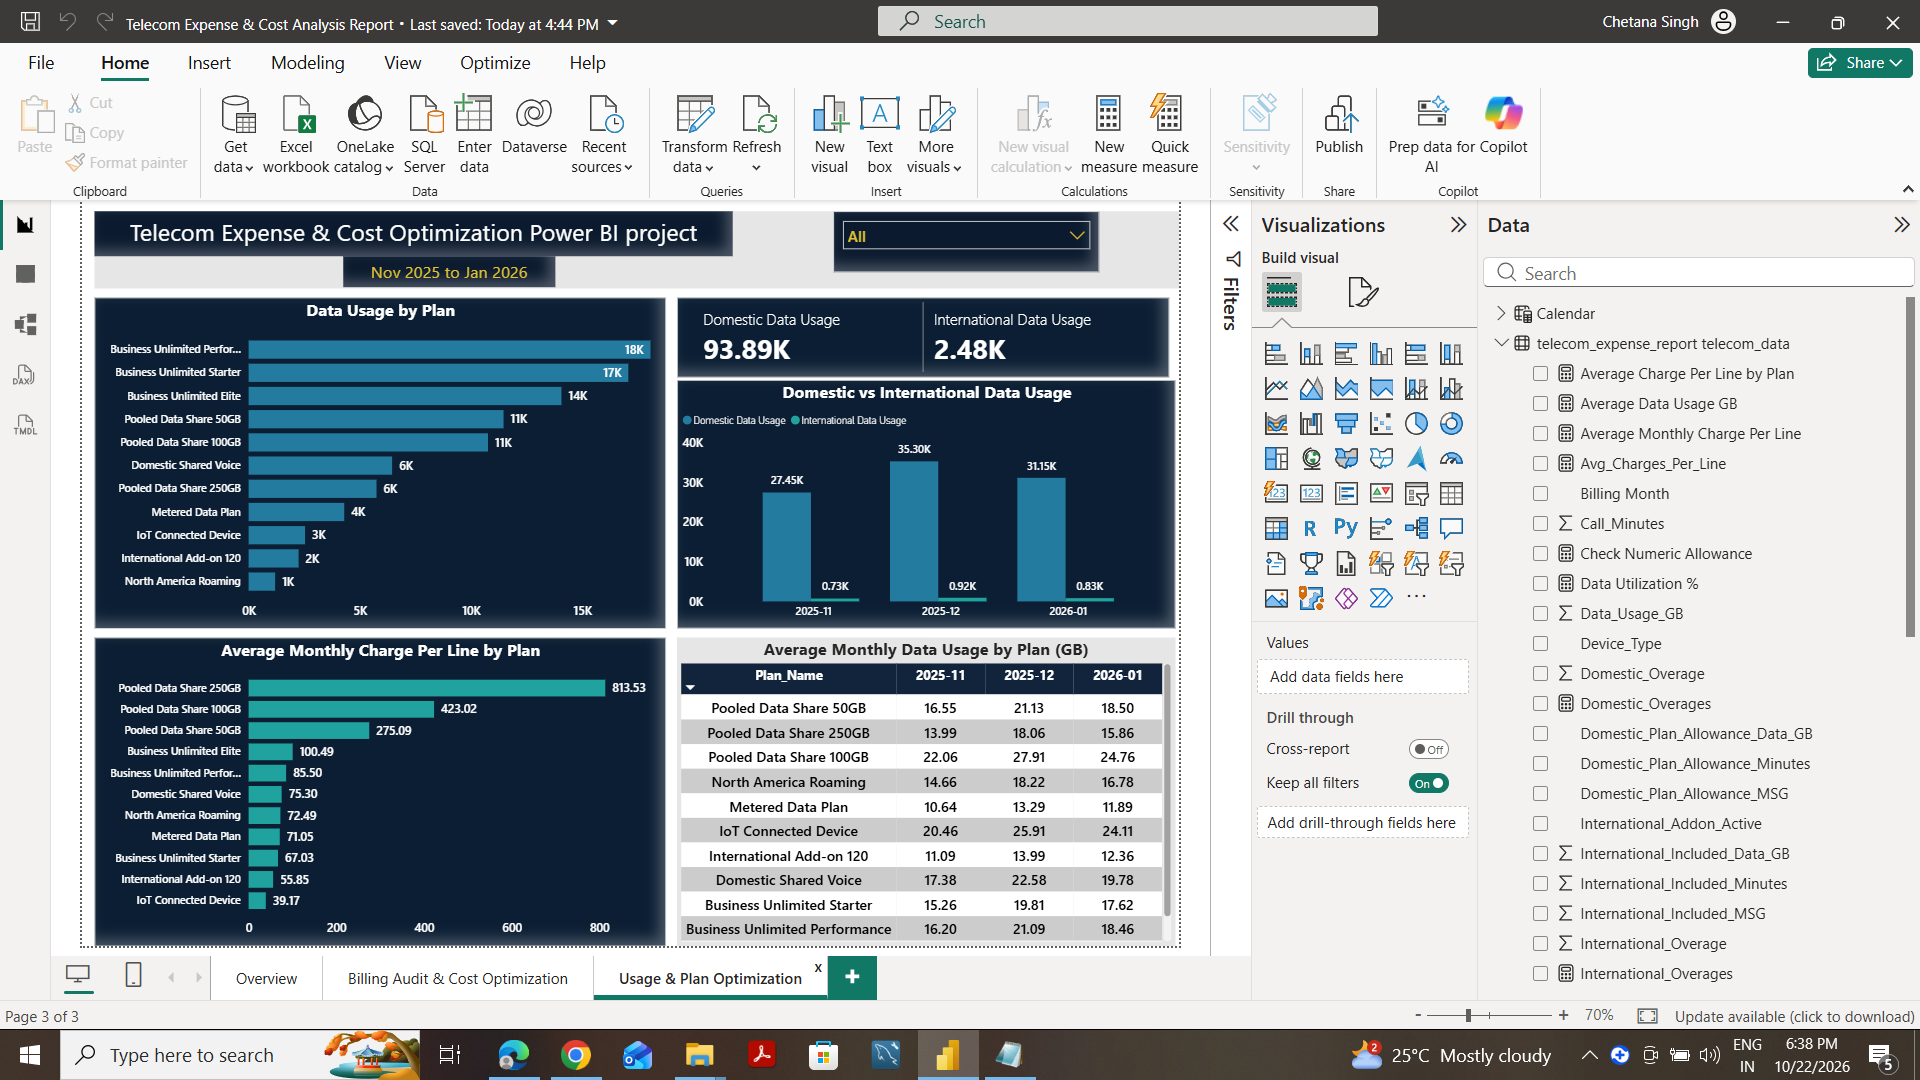

Layout of this report page (visuals, bound fields, positions):
{"tool":"powerbi","page":{"name":"Usage & Plan Optimization","canvas":[1250,850],"ordinal":2},"visuals":[{"type":"textbox","box":[13.7,12.3,1257,87.8],"z":0},{"type":"textbox","box":[14.7,13.3,727.5,51.5],"z":1000},{"type":"textbox","box":[297.5,64.8,241.5,35.3],"z":2000},{"type":"barChart","title":"Data Usage by Plan","fields":{"Category":["telecom_expense_report telecom_data.Plan_Name"],"Y":["Sum(telecom_expense_report telecom_data.Data_Usage_GB)"]},"box":[14.2,111.1,650.9,377.4],"z":3000},{"type":"slicer","fields":{"Values":["Calendar.Month_Name"]},"box":[855.6,13.3,303.4,69.2],"z":4000},{"type":"clusteredColumnChart","title":"Domestic vs International Data Usage","fields":{"Category":["Calendar.Year_Month"],"Y":["telecom_expense_report telecom_data.Total Domestic Data Usage","telecom_expense_report telecom_data.Total International Data Usage"]},"box":[678,205.1,568.3,283.4],"z":5000},{"type":"cardVisual","fields":{"Data":["telecom_expense_report telecom_data.Total Domestic Data Usage","telecom_expense_report telecom_data.Total International Data Usage"]},"box":[678,111.1,561.2,91.2],"z":6000},{"type":"clusteredBarChart","title":"Average Monthly Charge Per Line by Plan","fields":{"Category":["telecom_expense_report telecom_data.Plan_Name"],"Y":["telecom_expense_report telecom_data.Average Monthly Charge Per Line"]},"box":[14.2,498.5,650.9,351.8],"z":7000},{"type":"pivotTable","title":"Average Monthly Data Usage by Plan (GB)","fields":{"Rows":["telecom_expense_report telecom_data.Plan_Name"],"Columns":["Calendar.Year_Month"],"Values":["telecom_expense_report telecom_data.Average Data Usage GB"]},"box":[678,498.5,568.3,351.8],"z":8000}]}

Visuals, with their boxes on the page's 1250x850 design canvas (x1, y1, x2, y2). These are canvas units, not pixel positions in the 1920x1080 screenshot, which may show the page scaled, cropped or inside an application window:
textbox: bbox=[14, 12, 1271, 100]
textbox: bbox=[15, 13, 742, 65]
textbox: bbox=[298, 65, 539, 100]
"Data Usage by Plan" barChart: bbox=[14, 111, 665, 488]
slicer - Calendar.Month_Name: bbox=[856, 13, 1159, 82]
"Domestic vs International Data Usage" clusteredColumnChart: bbox=[678, 205, 1246, 488]
cardVisual - telecom_expense_report telecom_data.Total Domestic Data Usage x telecom_expense_report telecom_data.Total International Data Usage: bbox=[678, 111, 1239, 202]
"Average Monthly Charge Per Line by Plan" clusteredBarChart: bbox=[14, 498, 665, 850]
"Average Monthly Data Usage by Plan (GB)" pivotTable: bbox=[678, 498, 1246, 850]
